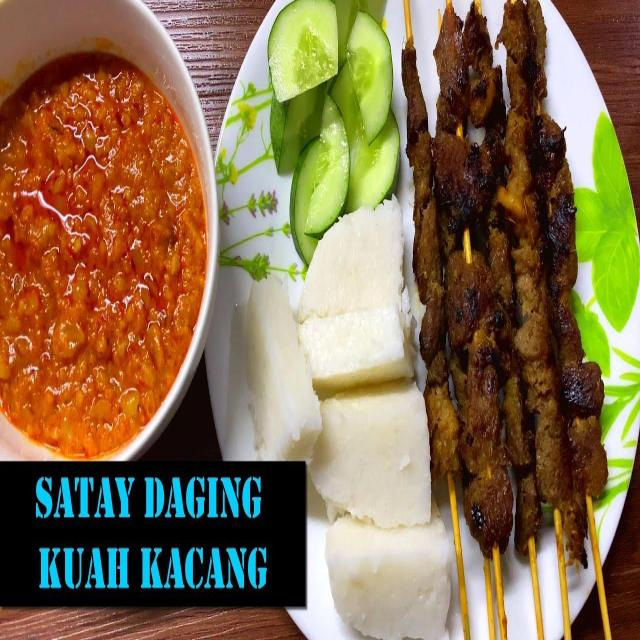Sate: (399, 2, 617, 640)
